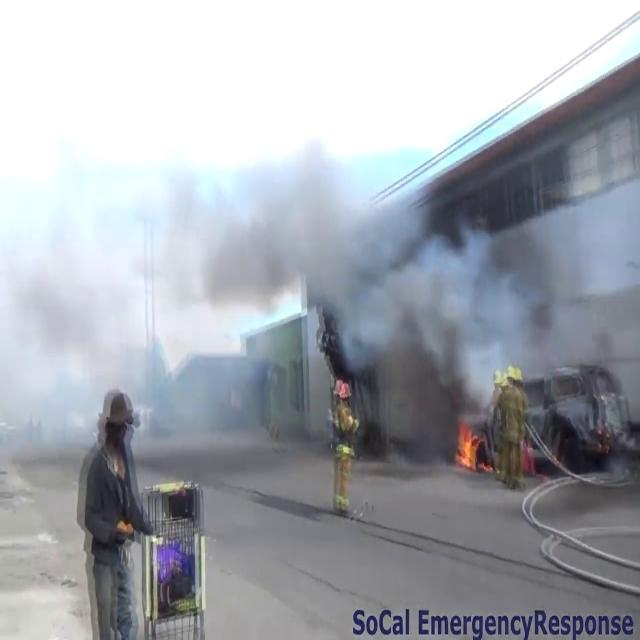Fire: (452, 414, 486, 476)
Smoke: (11, 129, 561, 450)
